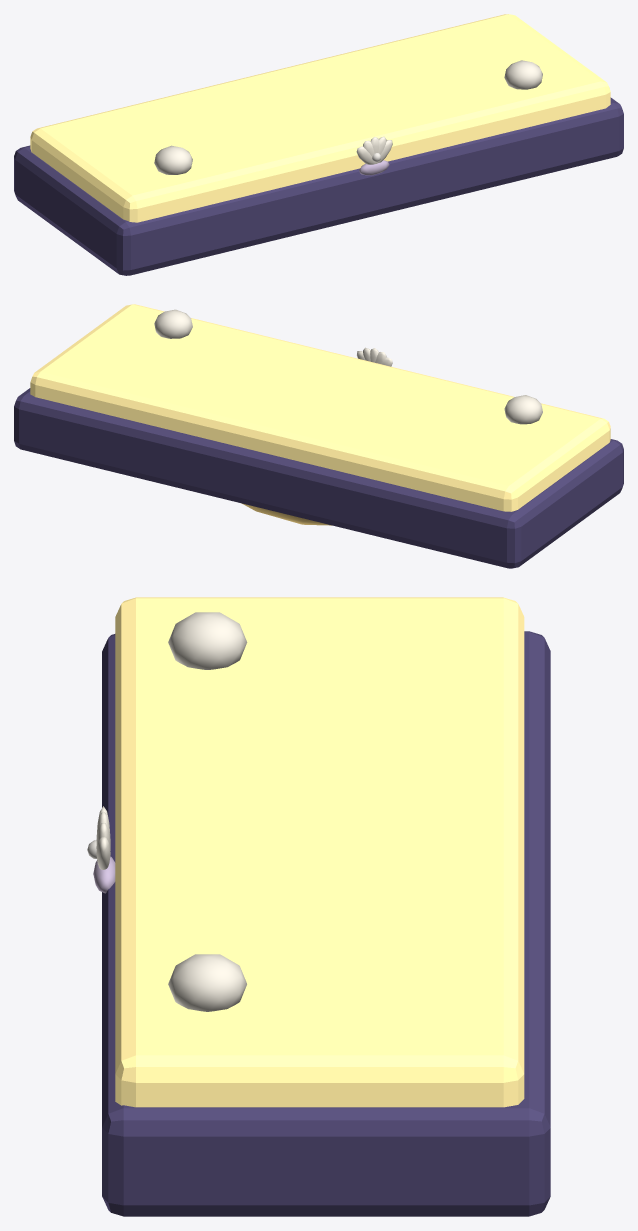
File: pearl_music_bar_2.glb
3 renders of one model, top to bottom at view 1: azimuth 30°, elevation 25°; view 2: azimuth 150°, elevation 25°; view 3: azimuth 270°, elevation 25°, orthographic. The views are drawn at different scales.
Parts seen in each view (by area): view 1: pearl_music_bar_2.001; view 2: pearl_music_bar_2.001; view 3: pearl_music_bar_2.001.
Part boxes in pixels (box(x1,y1,x2,y2)): pearl_music_bar_2.001: box(14, 14, 623, 275); pearl_music_bar_2.001: box(14, 304, 623, 568); pearl_music_bar_2.001: box(87, 597, 550, 1216).
Size of the model in its own units: 7.09 by 1.7 by 2.81.
